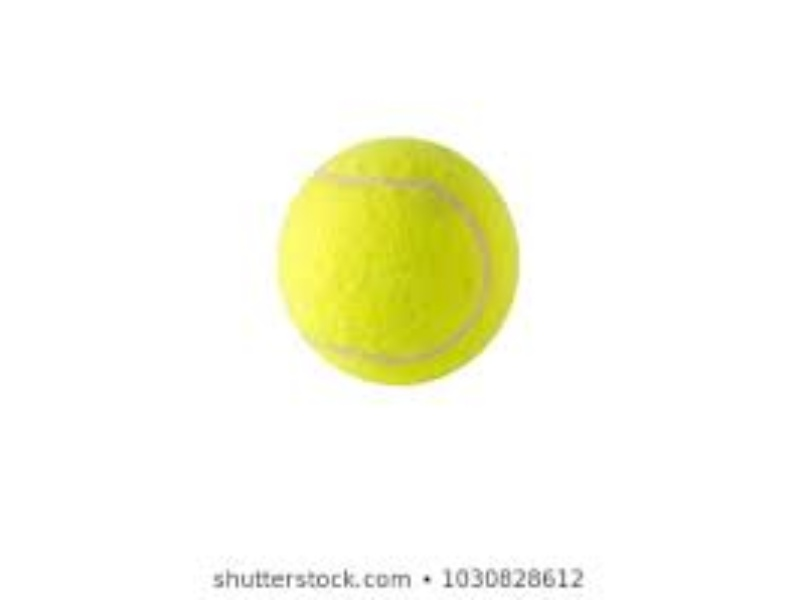tennis ball: (270, 130, 539, 396)
